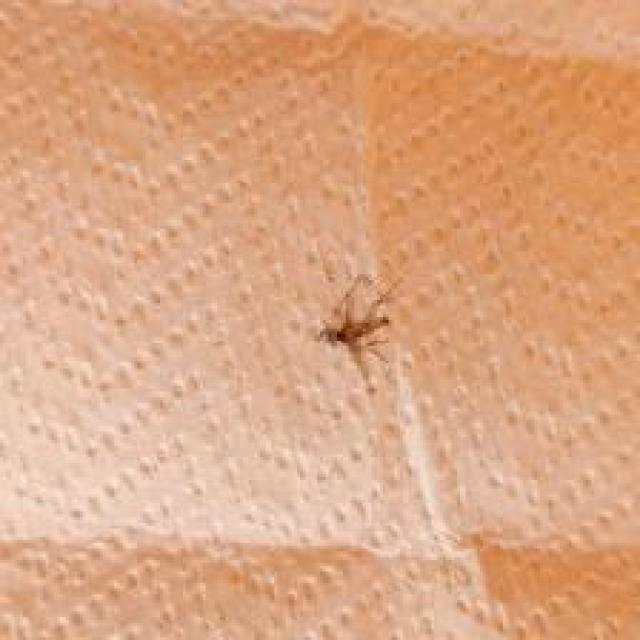Culex: (316, 272, 398, 394)
